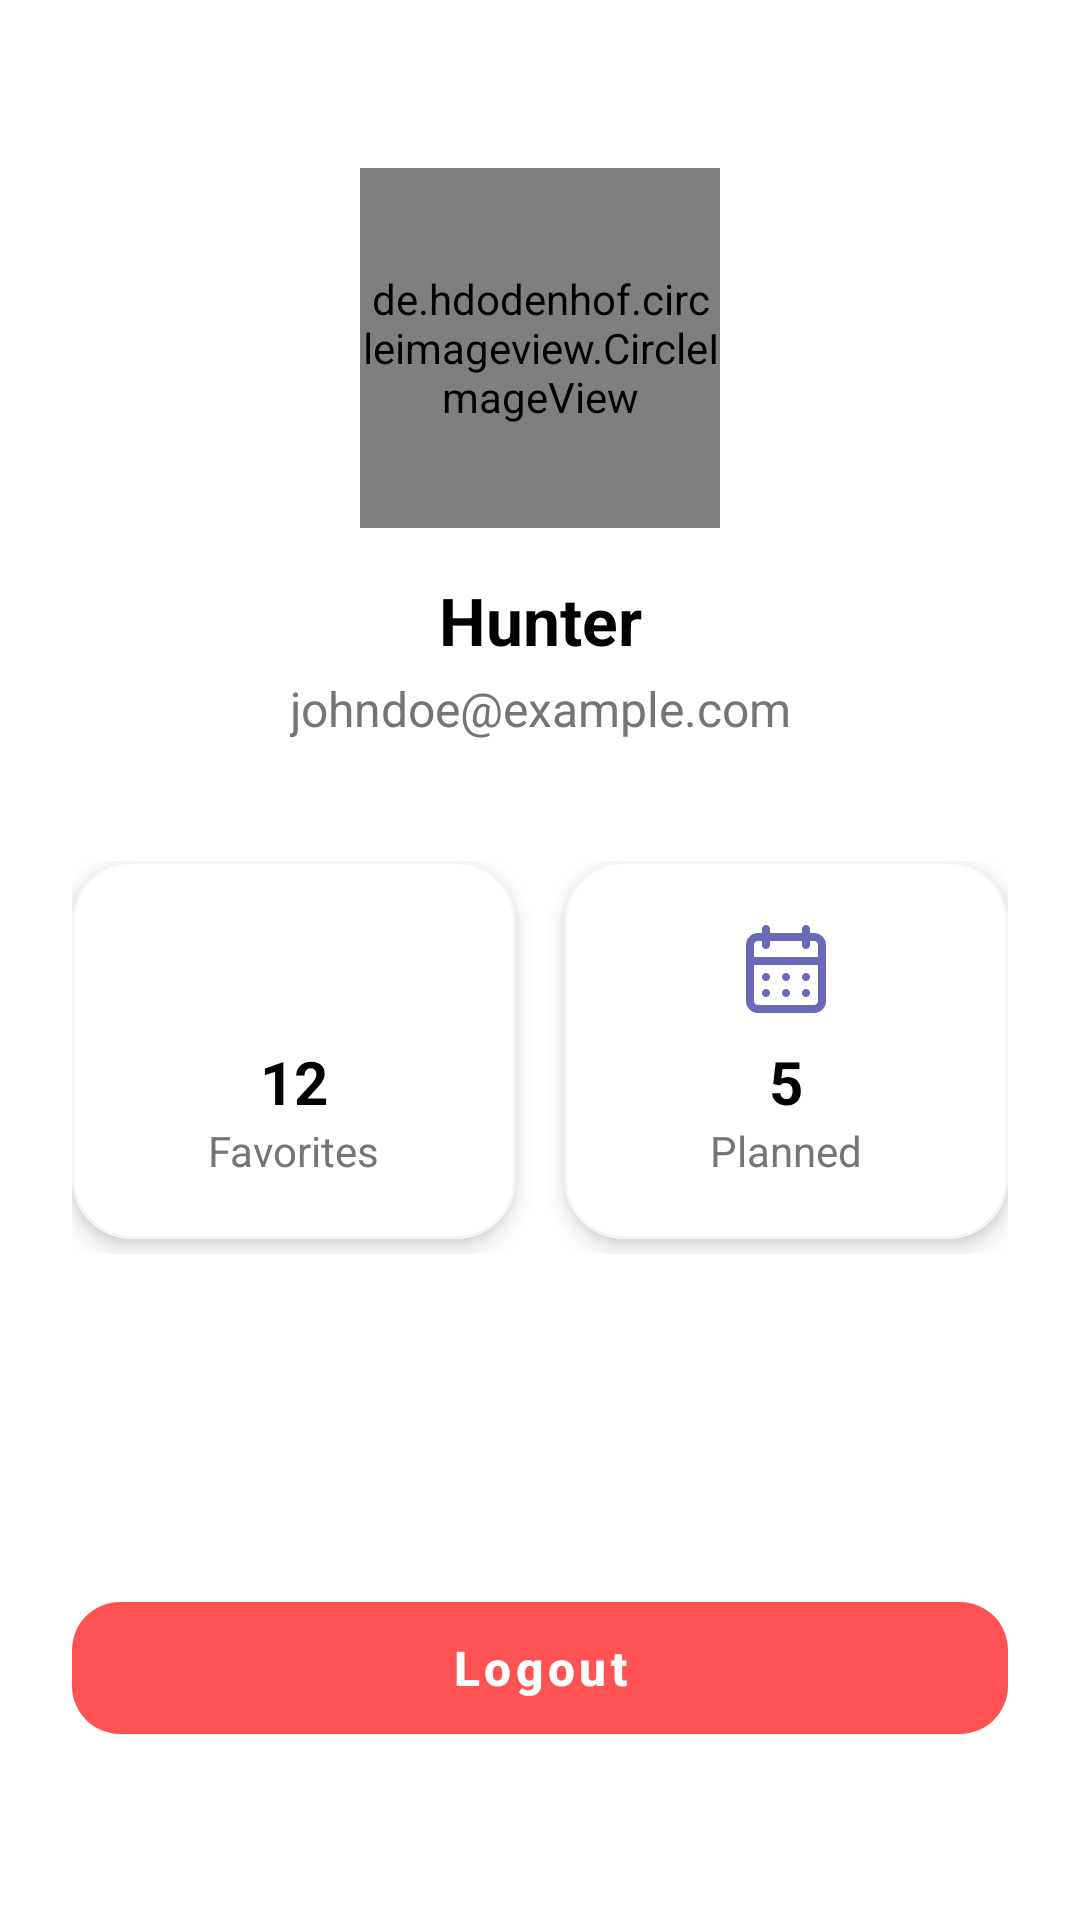

Screen size 1080px x 1920px. Icon name, then its box in pixels as (x1, y1, x2, y2):
calendar: (746, 925, 826, 1013)
